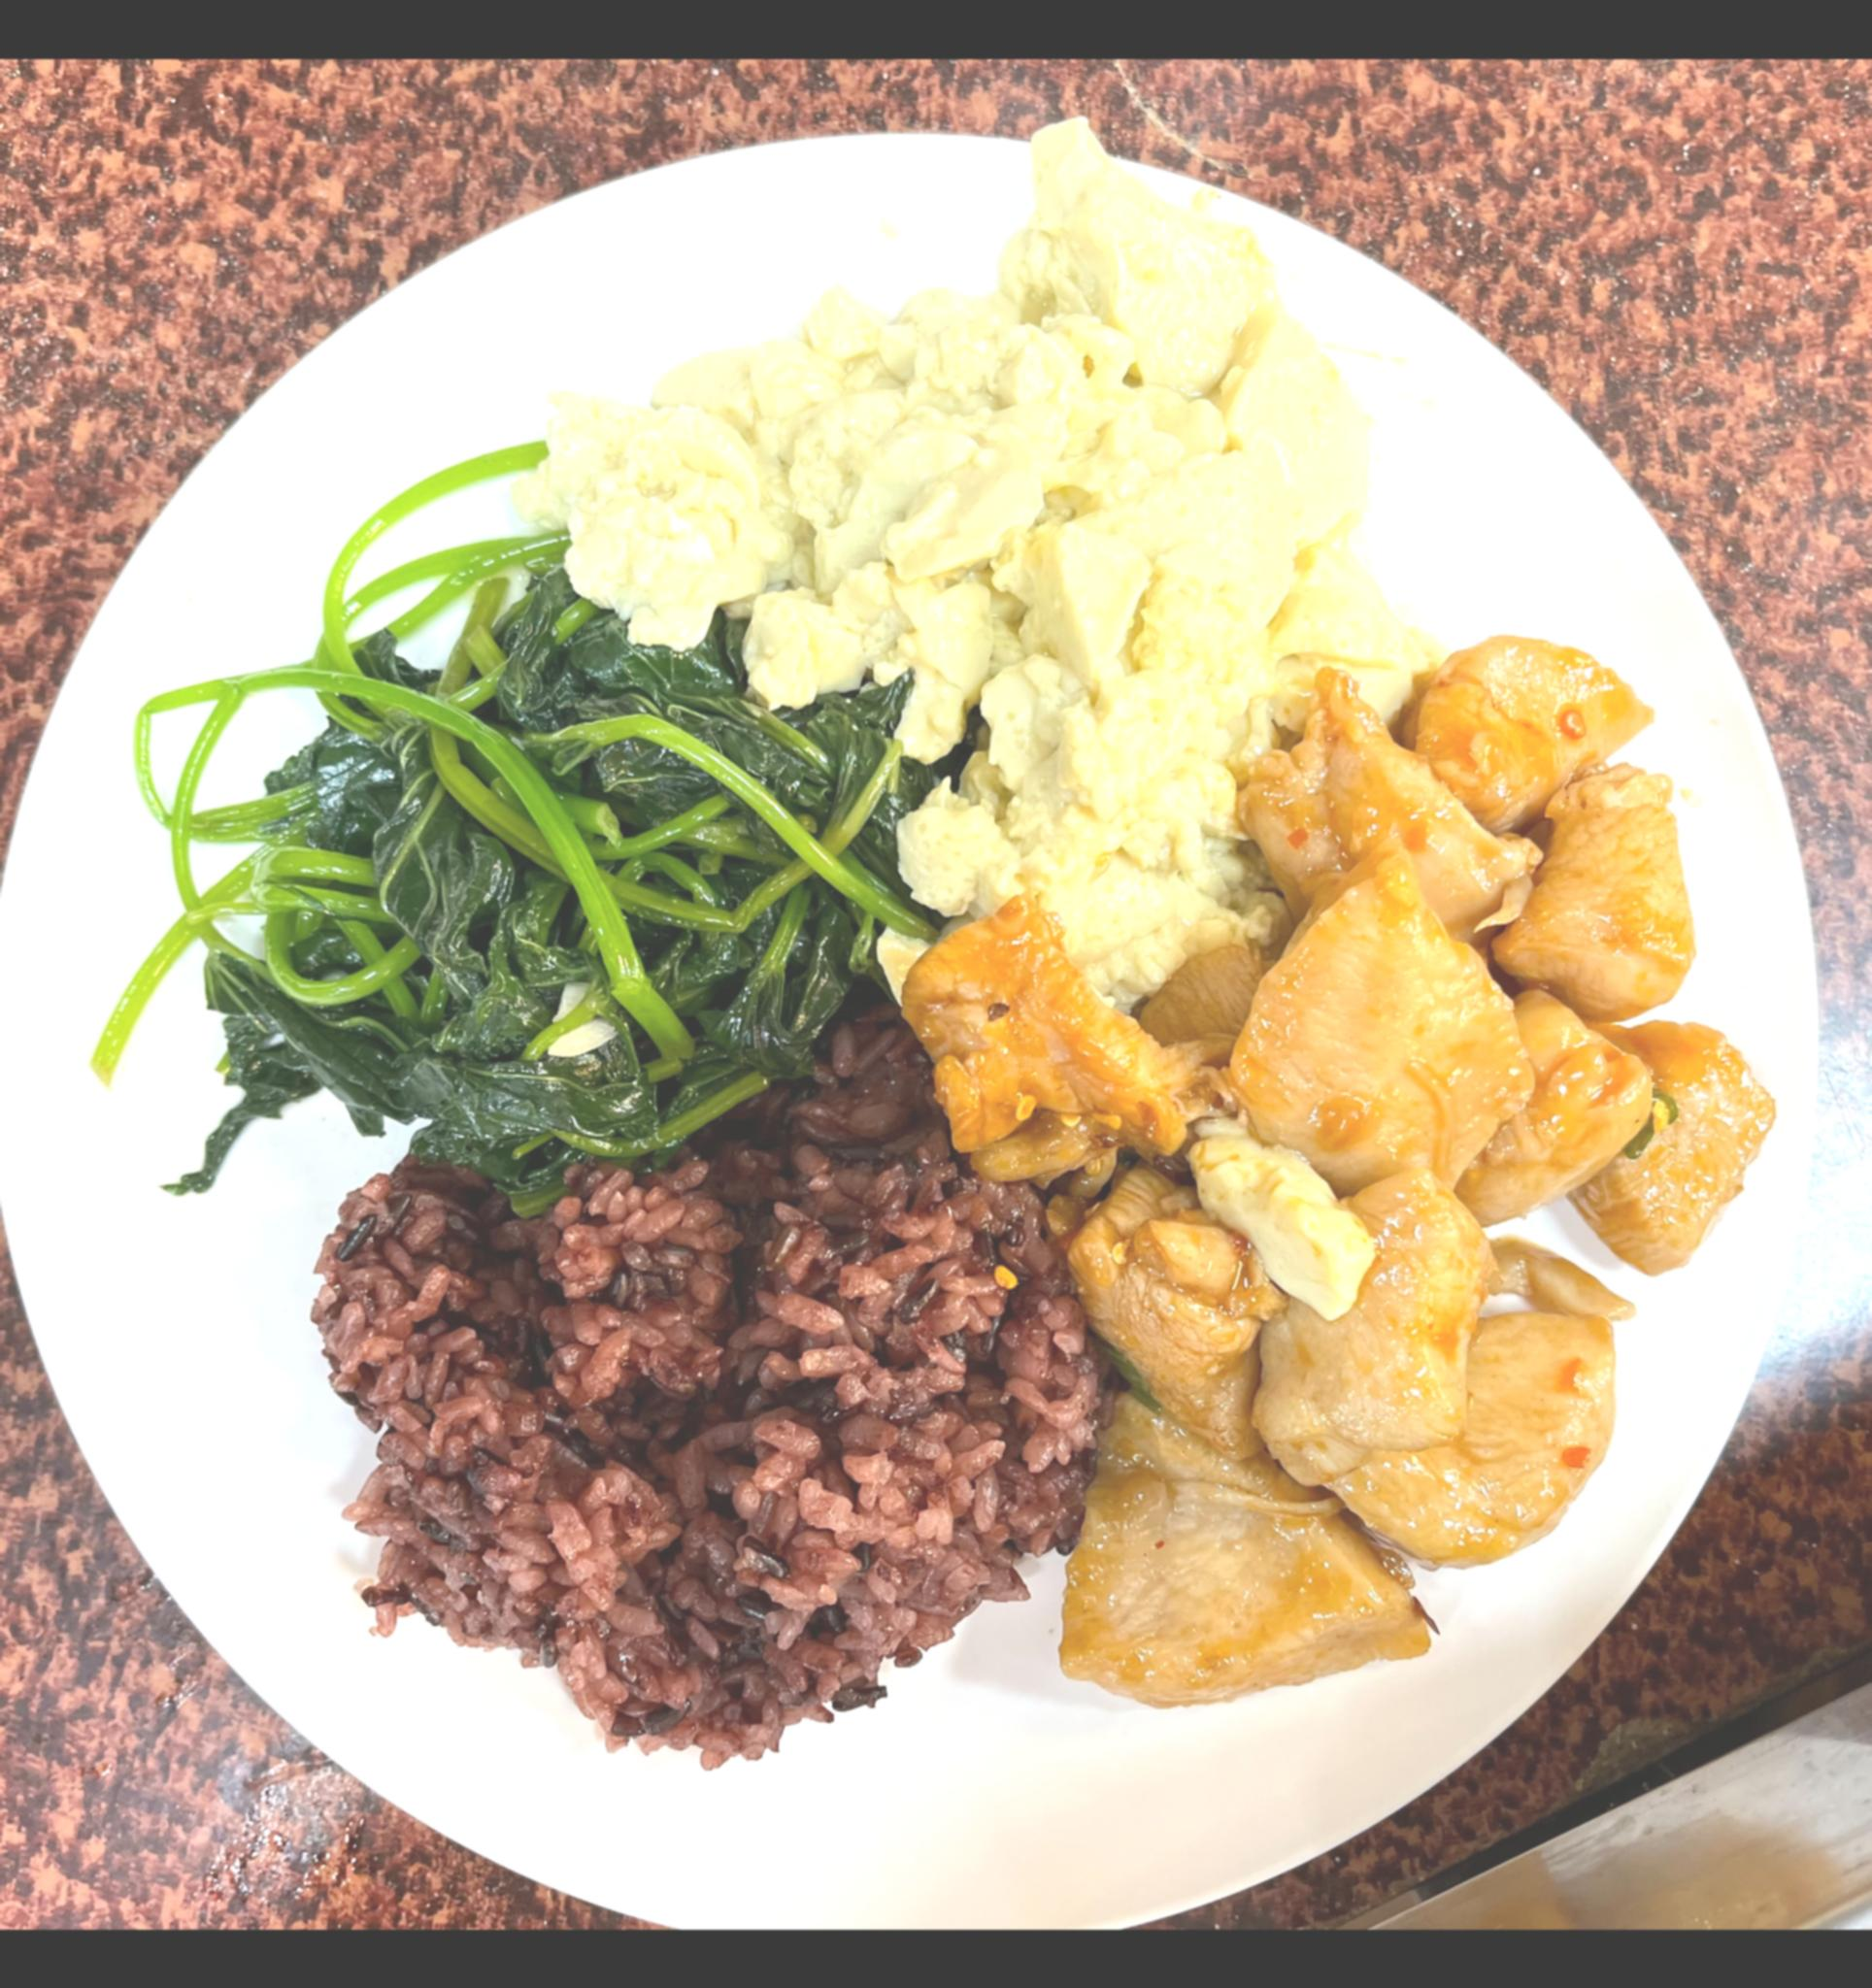big fried chicken leg: (0, 128, 1851, 1930)
braised fish: (296, 1020, 1073, 1766)
braised fish fillet: (531, 174, 1371, 976), (141, 545, 910, 1149)
braised pork: (976, 639, 1745, 1724)
